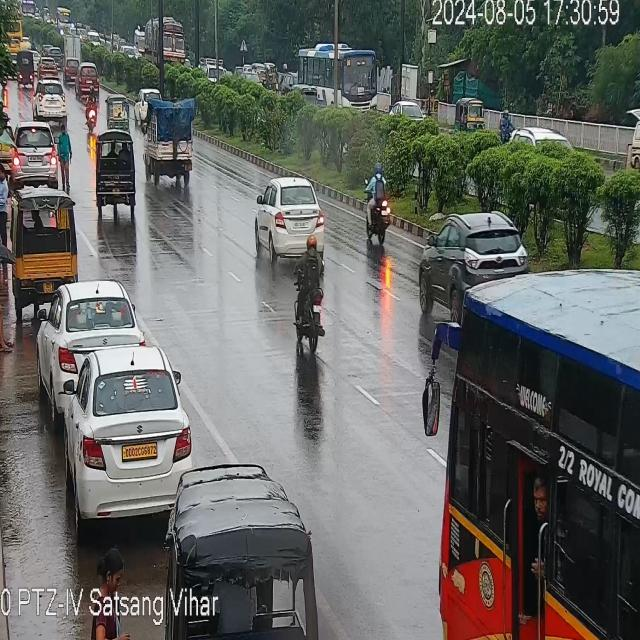2-wheelers: (292, 237, 328, 355), (366, 162, 392, 246)
auto: (172, 458, 322, 582), (9, 194, 74, 321), (95, 127, 139, 217), (458, 95, 486, 127), (14, 52, 36, 84)
bus: (433, 258, 640, 640), (296, 44, 382, 117)
car: (62, 334, 186, 536), (36, 270, 138, 414), (415, 204, 524, 314), (256, 173, 324, 257), (12, 117, 58, 193), (33, 82, 66, 126), (75, 62, 101, 104), (388, 100, 427, 120), (37, 54, 59, 80), (91, 82, 93, 84)
pedestrian: (58, 127, 76, 195), (96, 548, 122, 590), (0, 232, 8, 352), (0, 163, 10, 239)
truck: (144, 92, 196, 186), (142, 12, 188, 72), (63, 32, 85, 64)
